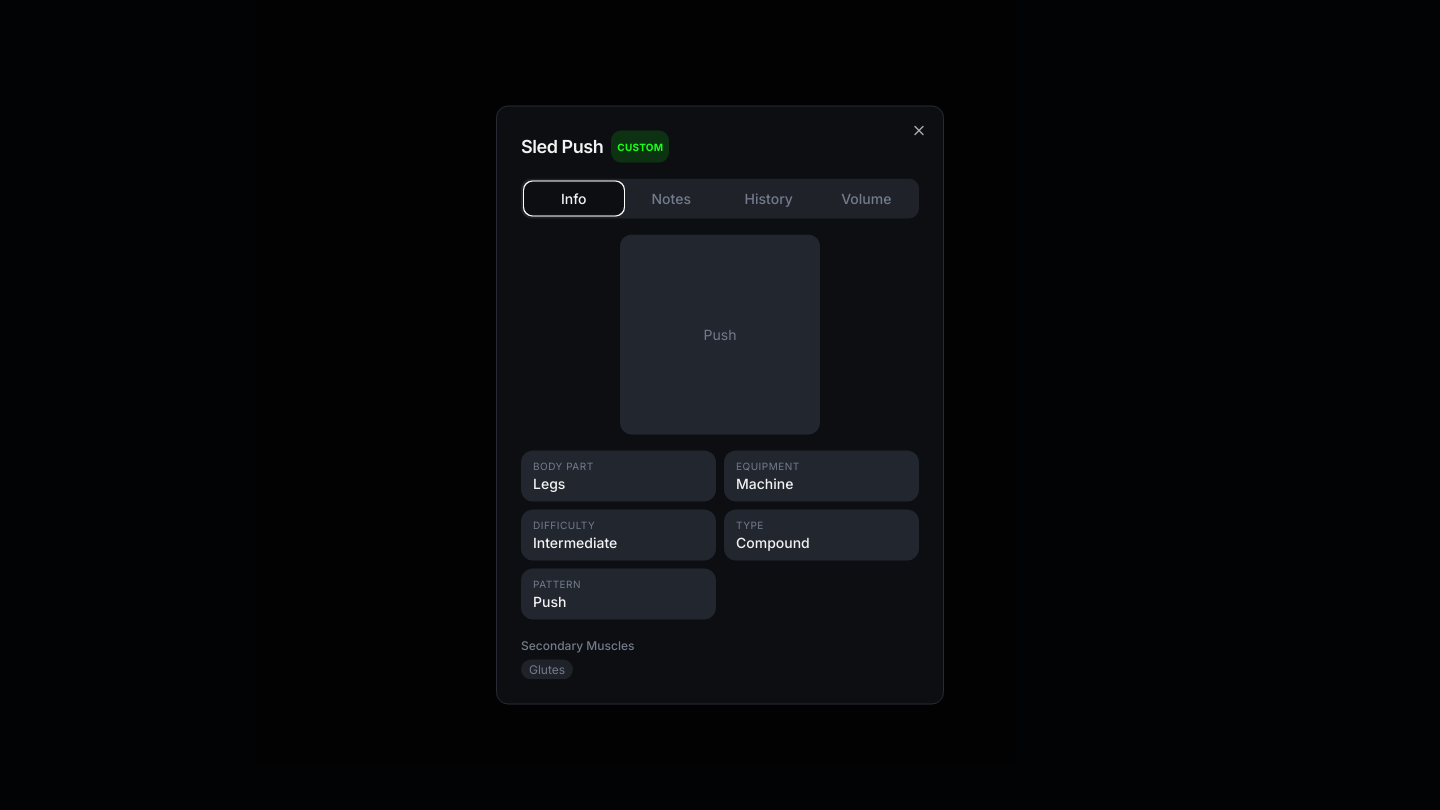
Test case: ExerciseDetailModal — Notes tab › does not pull in notes from a different exercise
Press the mouse on the tab "Notes" at (671, 198), box [622,182,720,214]
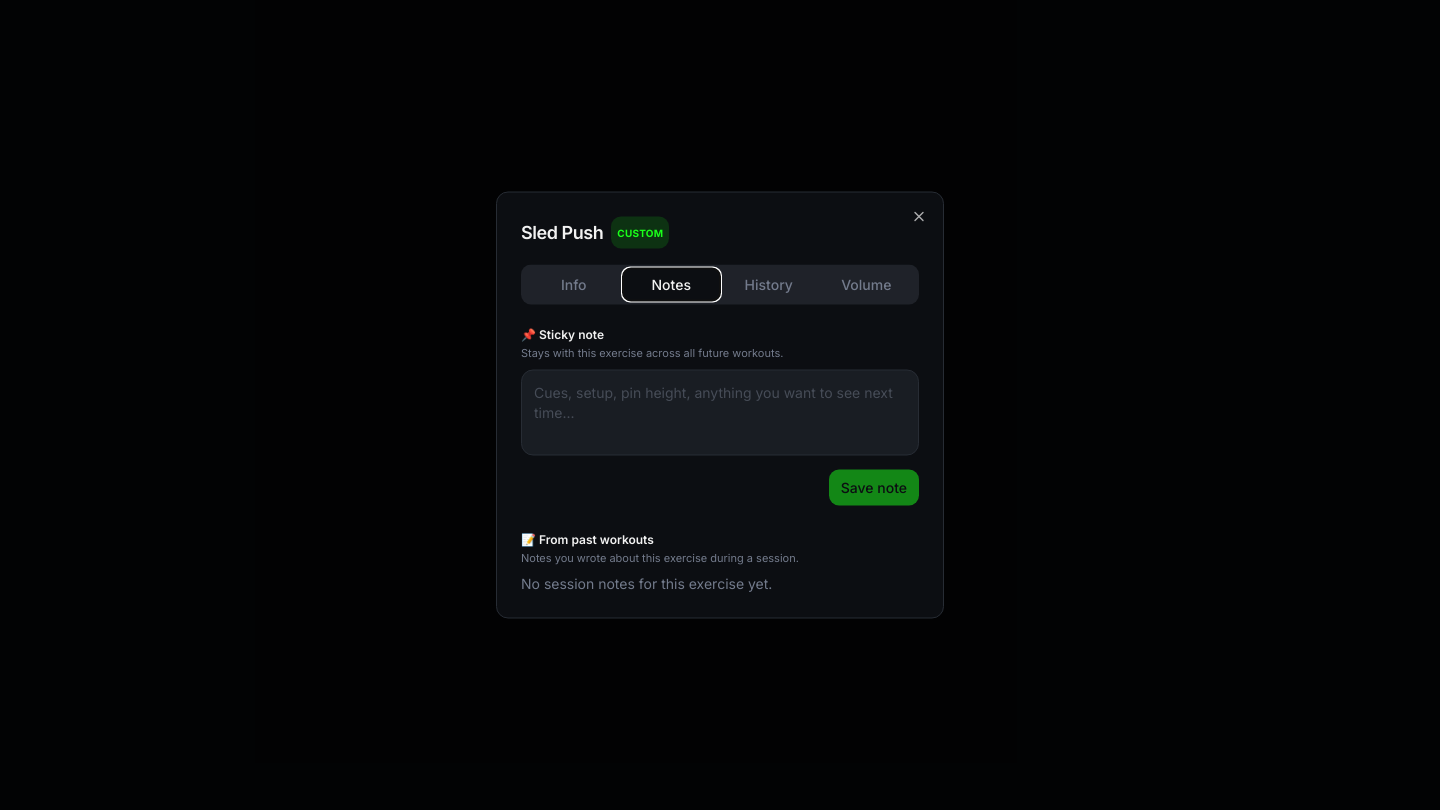
expect the text "No session notes for this exercise yet." is shown: met, box [521,574,772,592]
